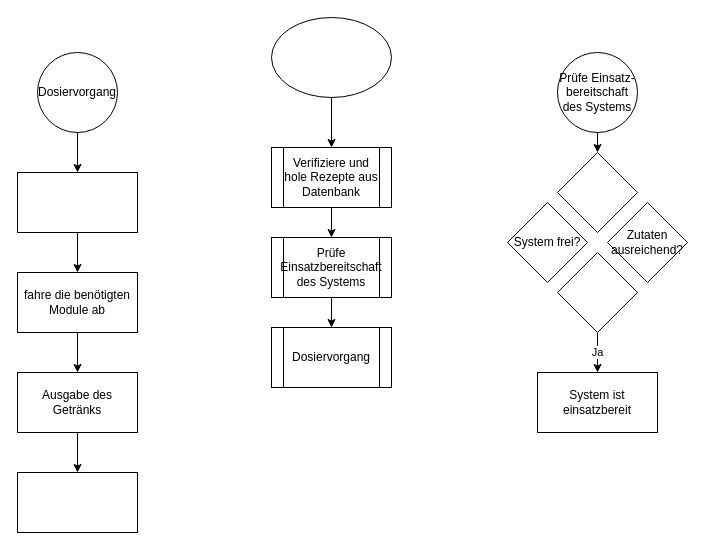
This 705x550 diagram has some shape labels left out. Each missing label, with the box of its shape:
Becher eingelegt?: (556, 152, 638, 232)
Cocktail Ausgewählt: (270, 16, 392, 98)
Ermittle Route: (16, 172, 138, 232)
reset: (16, 472, 138, 532)
usw.: (556, 252, 638, 332)
